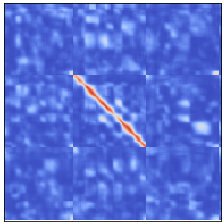action_path: (71, 75, 146, 149)
